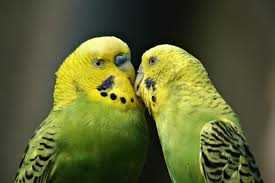budgie: (16, 34, 143, 183), (139, 44, 264, 183)
